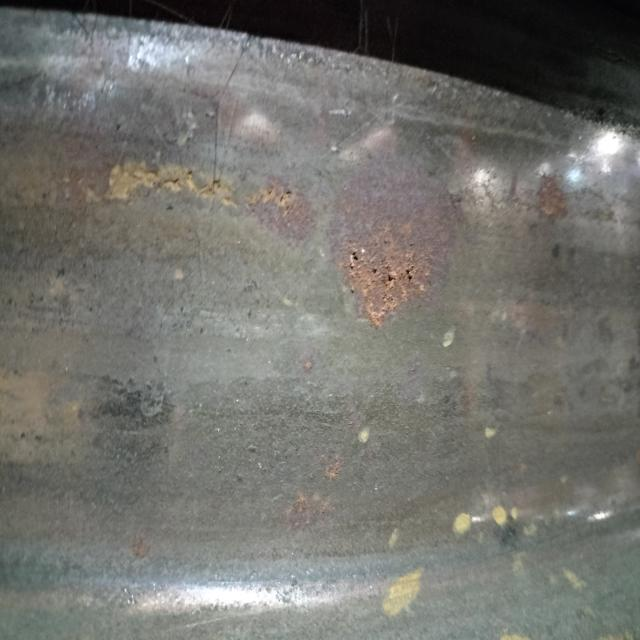Peeling: (92, 118, 307, 234)
